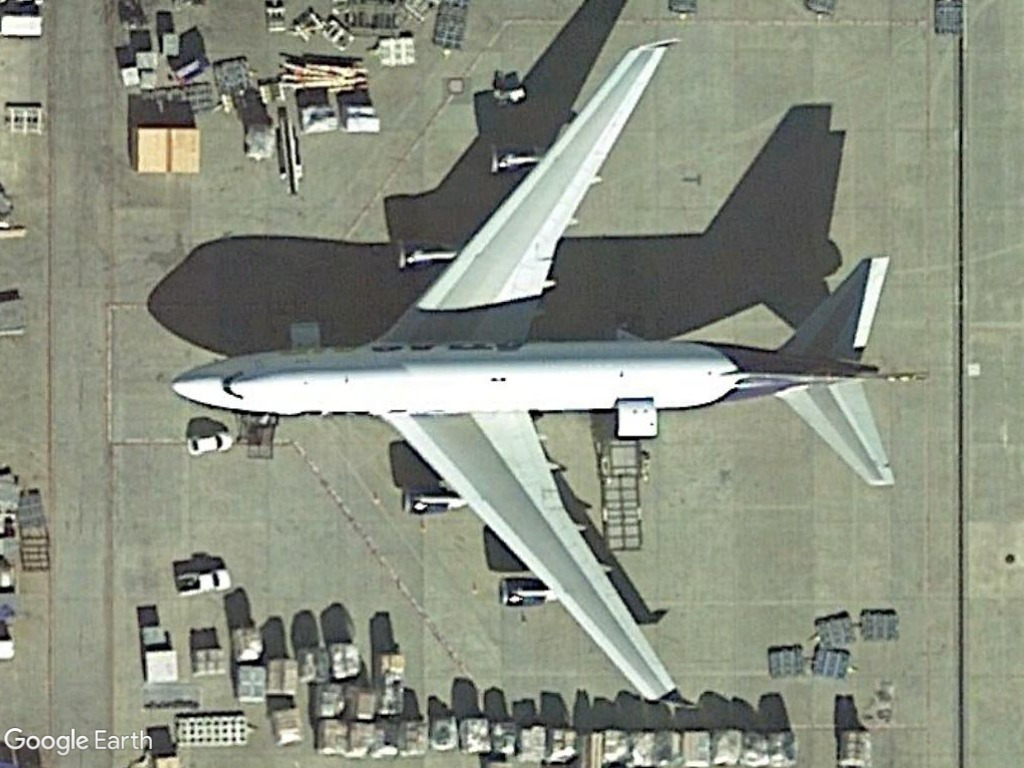airliner: (155, 26, 939, 710)
car: (182, 430, 236, 457)
other: (171, 565, 235, 599)
